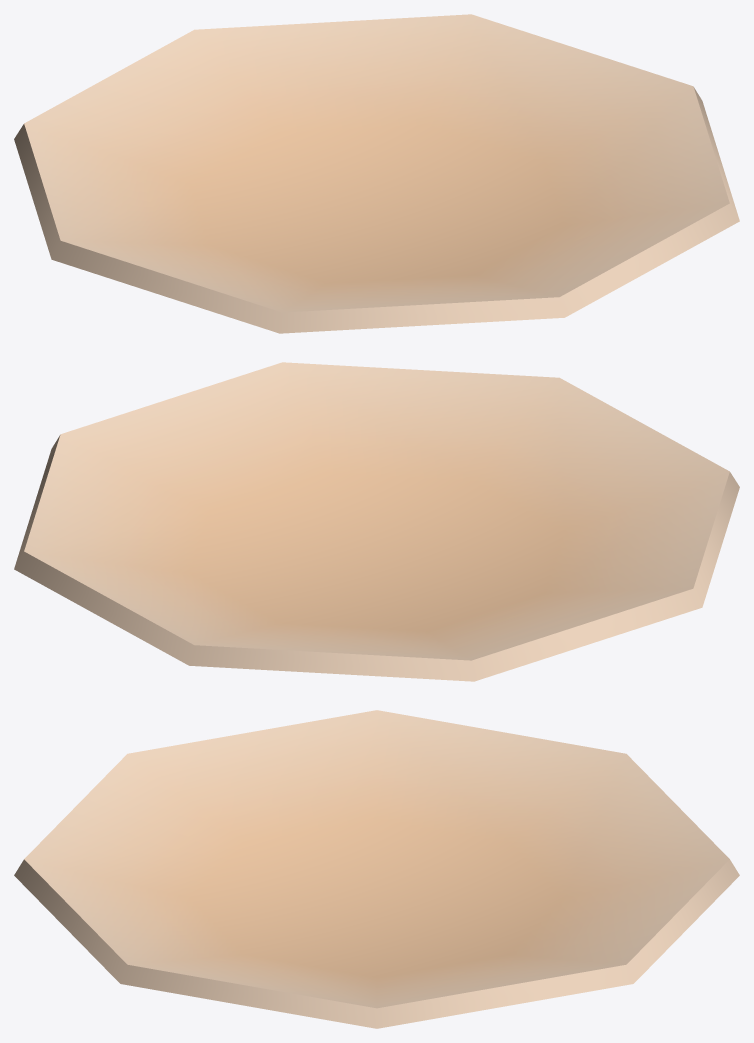
File: Dish5.fbx
3 views of the same model, one above another, from view 1: azimuth 30°, elevation 25°; view 2: azimuth 150°, elevation 25°; view 3: azimuth 270°, elevation 25° (orthographic). The views are drawn at different scales.
Visible parts, largest first — view 1: Dish5; view 2: Dish5; view 3: Dish5.
Boxes of the visible parts, <box> form: Dish5: <box>14,14,739,333</box>; Dish5: <box>14,362,739,681</box>; Dish5: <box>14,710,739,1028</box>.
Size of the model in its own units: 85.72 by 7.25 by 85.72.
